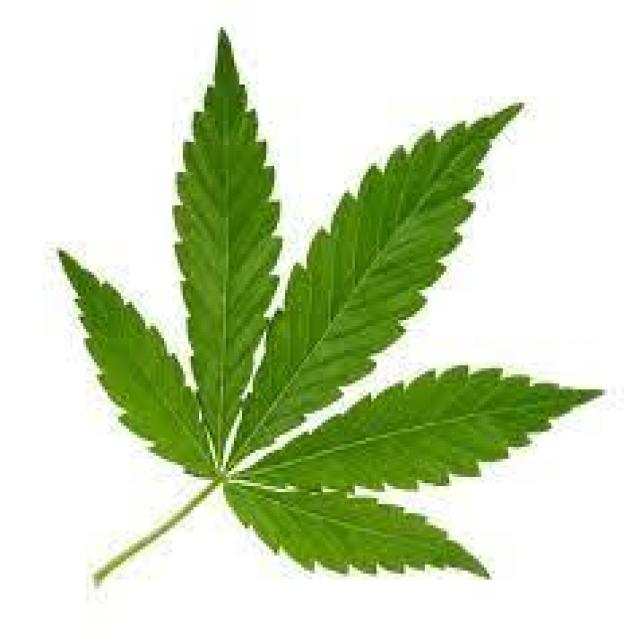cannabis: (54, 25, 602, 591)
